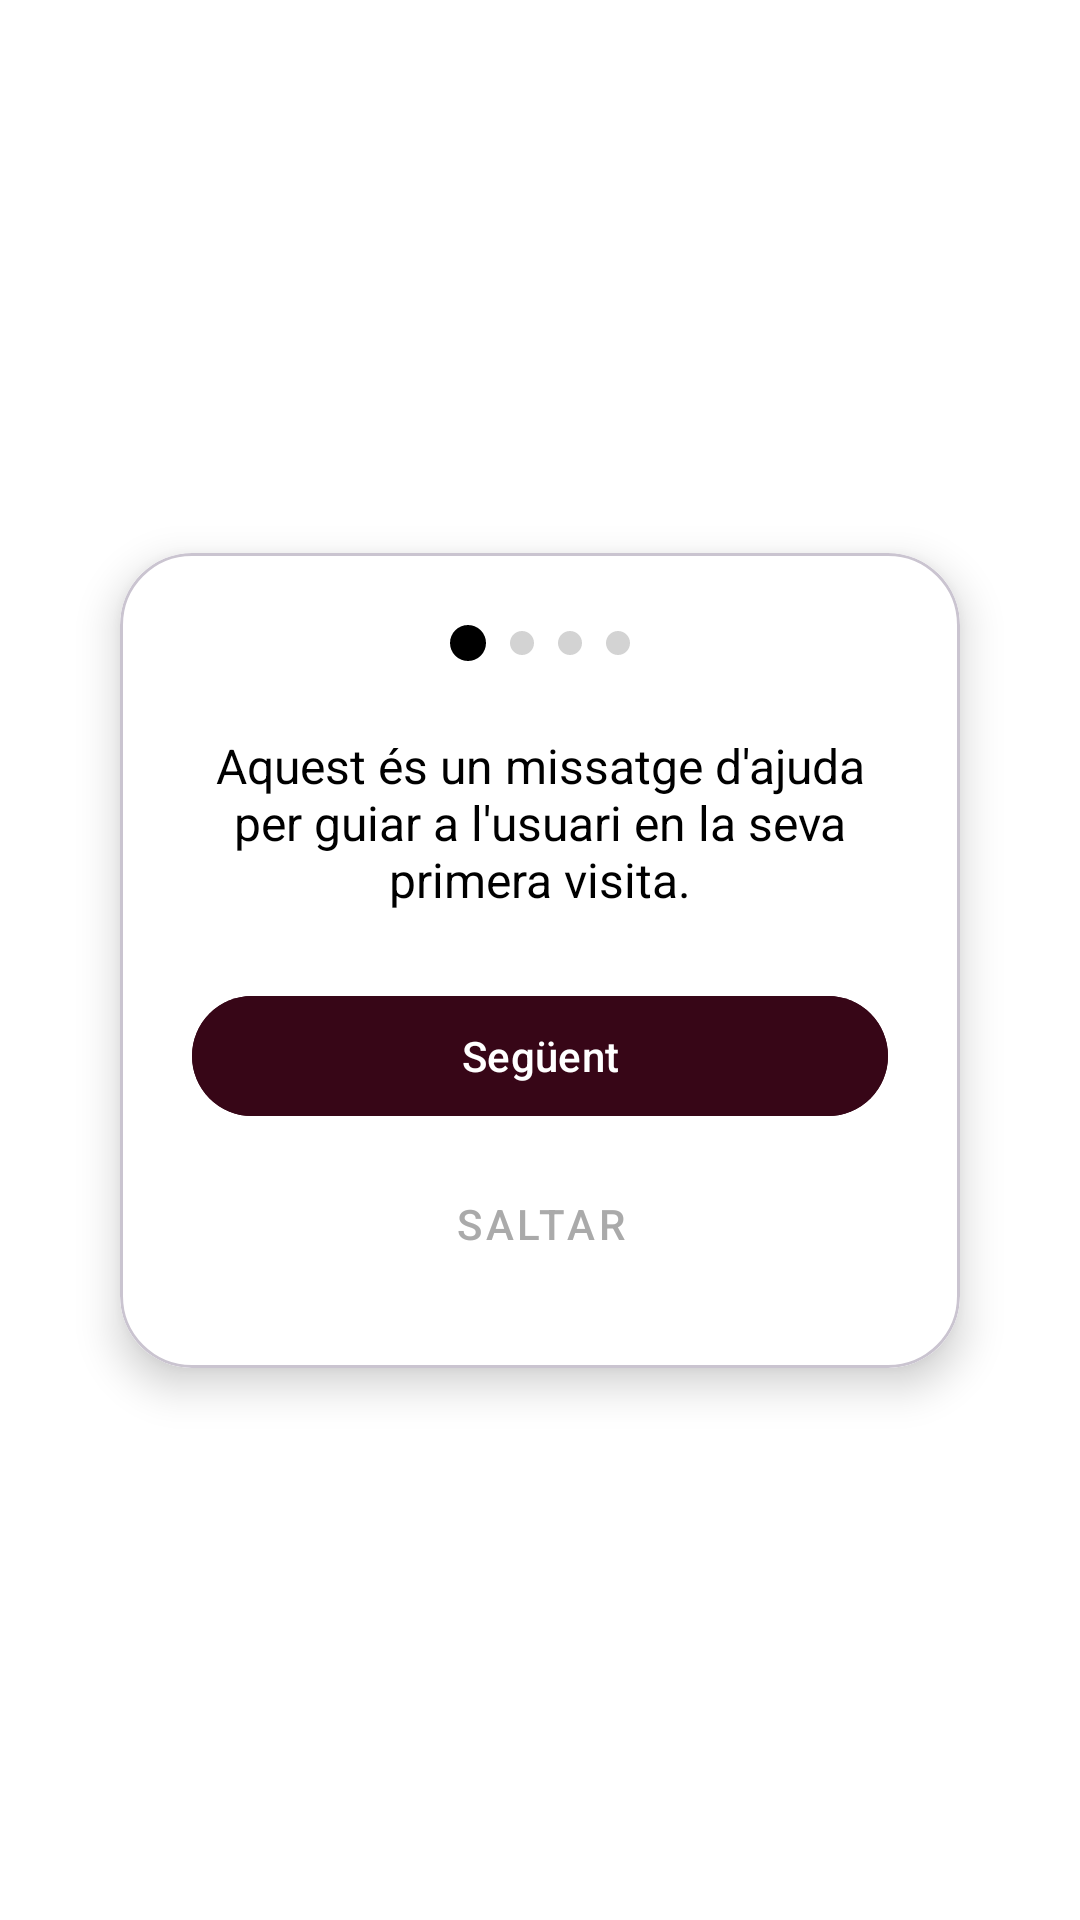

Icons on this 1080*1920 Android screen, each with its box as (x1, y1, x2, y2):
dot: (450, 625, 486, 661)
